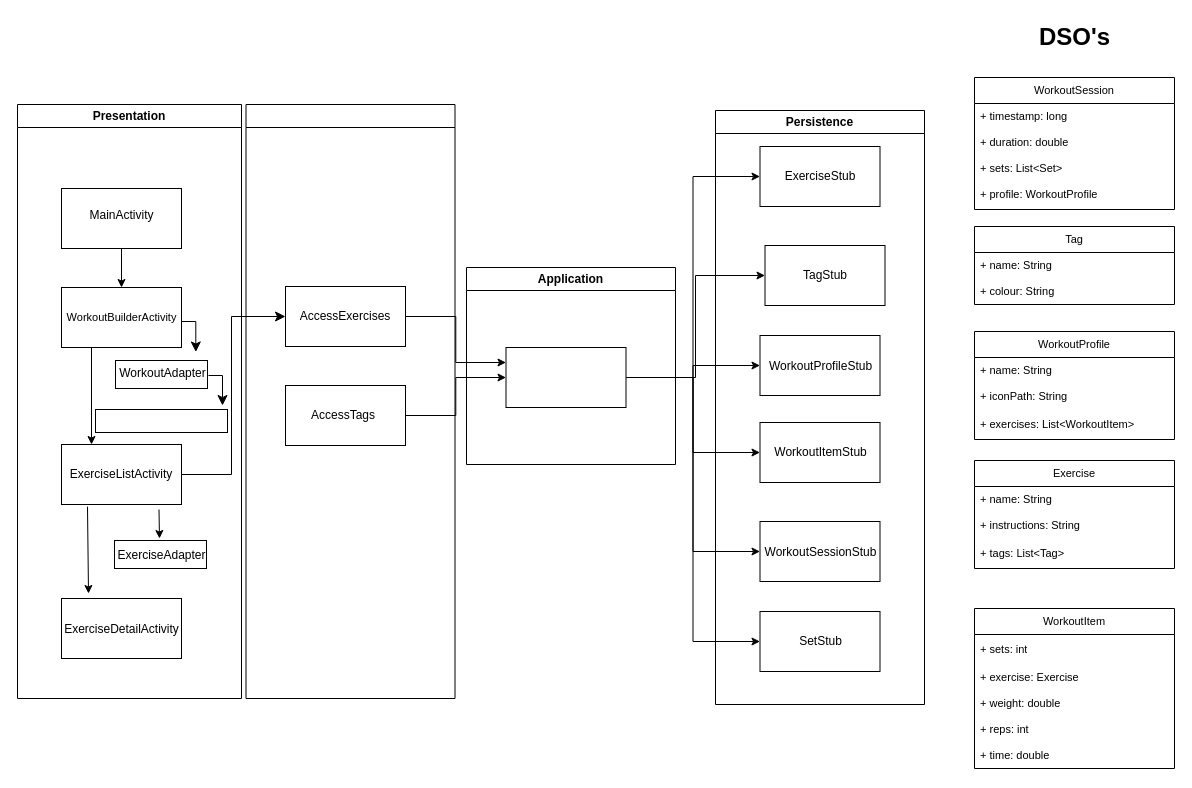
Some shapes in this 1192 by 788 pixel diagram are drawn without their labels. Each missing label, with the centre of its shape:
"AddExerciseBottomSheetFragment" belongs at (x=161, y=420).
"Logic" belongs at (x=350, y=401).
"Services" belongs at (x=565, y=377).
